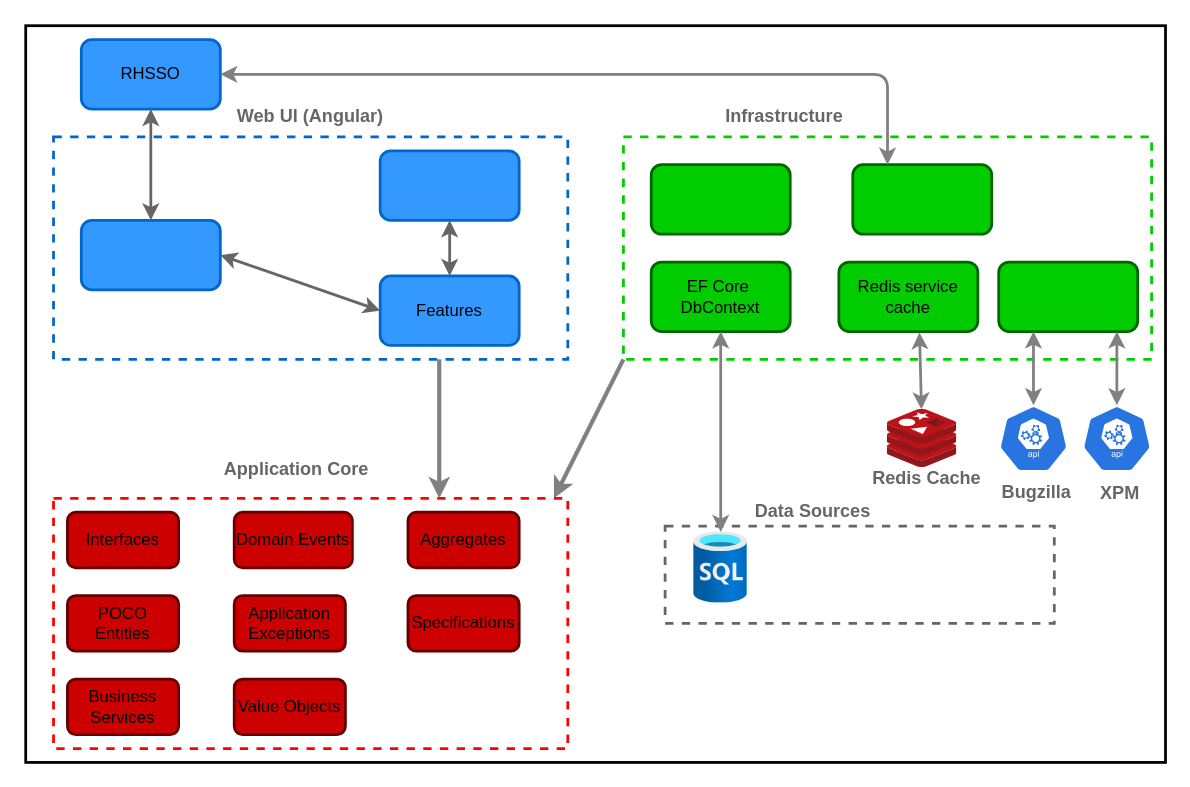
This 1190x787 diagram has some shape labels left out. Each missing label, with the box of its shape:
Authentification: (851, 163, 992, 235)
Core: (79, 218, 221, 291)
Shared: (378, 149, 520, 221)
Web API Clients: (997, 260, 1138, 332)
XML Repository: (649, 163, 791, 235)
